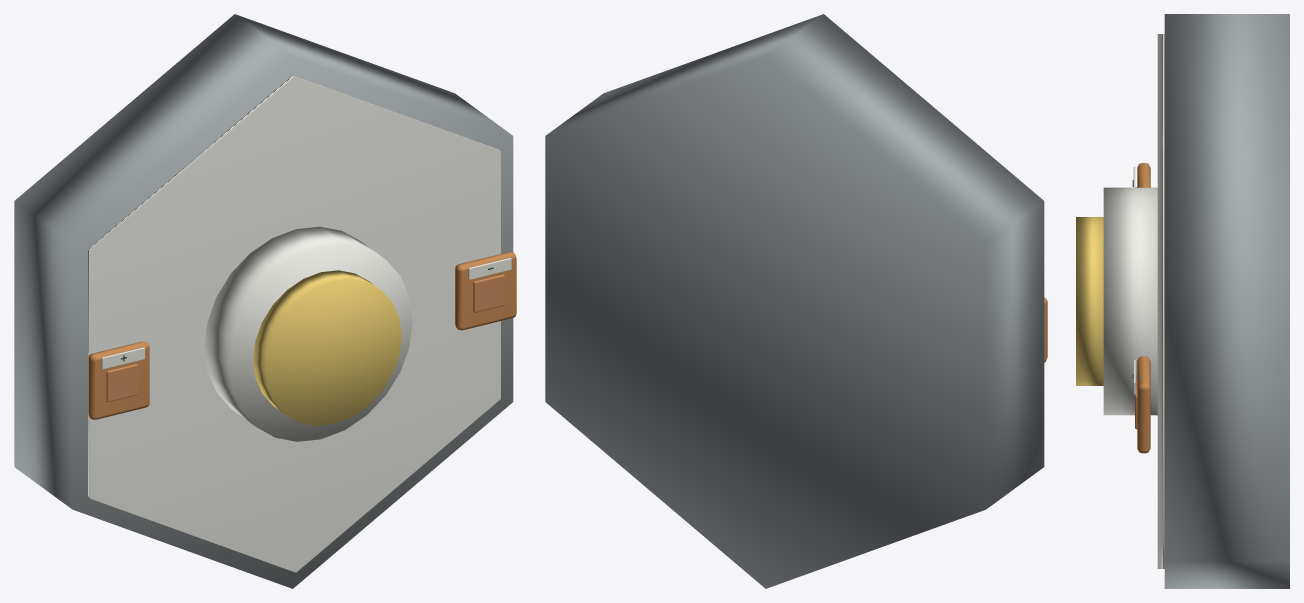
The model's file is led_series-module.glb.
3 views of the same model, side by side, from view 1: azimuth 30°, elevation 25°; view 2: azimuth 150°, elevation 25°; view 3: azimuth 270°, elevation 25° (orthographic). The views are drawn at different scales.
Parts seen in each view (by area): view 1: node-5, node-4, node-10, node-9, node-3 · Original material.002, Tinned copper solder land.001, Tinned copper solder land; view 2: node-4; view 3: node-4, node-9, node-10, node-5, node-3 · Original material.002.
Boxes of the visible parts, left/top/right/bottom form: node-5: left=88, top=75, right=500, bottom=572; node-4: left=14, top=14, right=513, bottom=588; node-10: left=253, top=270, right=401, bottom=425; node-9: left=204, top=226, right=412, bottom=441; node-3 · Original material.002: left=88, top=252, right=516, bottom=419; Tinned copper solder land.001: left=473, top=274, right=504, bottom=312; Tinned copper solder land: left=106, top=364, right=137, bottom=402; node-4: left=545, top=14, right=1044, bottom=588; node-4: left=1164, top=14, right=1289, bottom=588; node-9: left=1103, top=187, right=1157, bottom=415; node-10: left=1076, top=217, right=1103, bottom=385; node-5: left=1157, top=34, right=1164, bottom=568; node-3 · Original material.002: left=1137, top=163, right=1150, bottom=453.
Bounding box in the file's own units: 0.7448 × 0.86 × 0.29.
